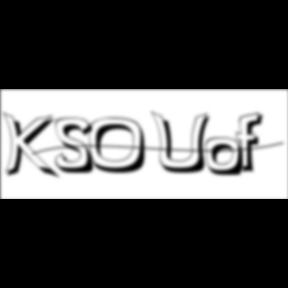K: (2, 110, 62, 182)
O: (88, 117, 154, 176)
S: (55, 117, 101, 176)
U: (150, 110, 216, 176)
f: (236, 111, 270, 175)
o: (205, 137, 247, 179)
